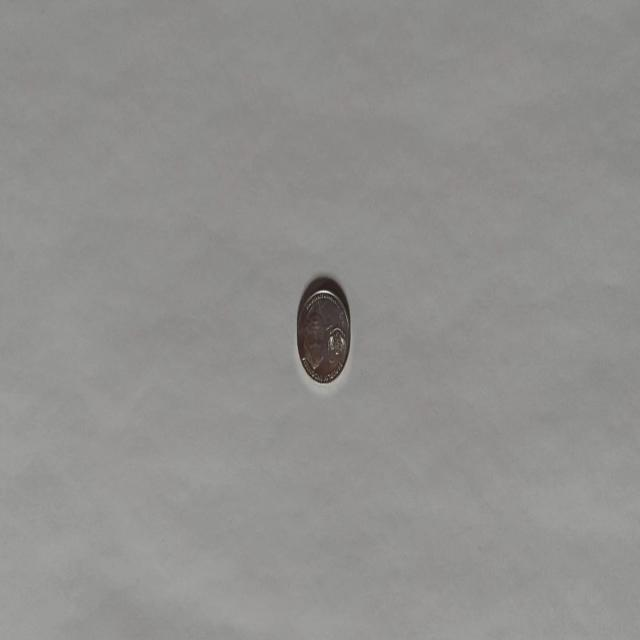dua ratus rupiah: (296, 275, 350, 385)
